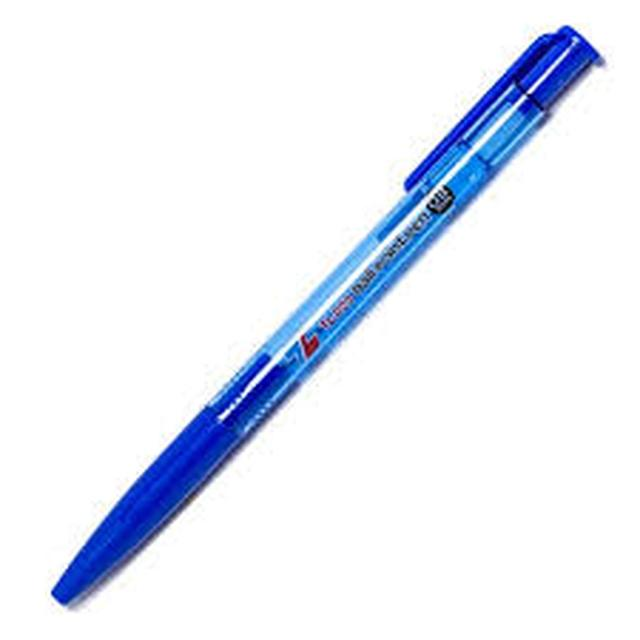pen: (48, 9, 616, 619)
